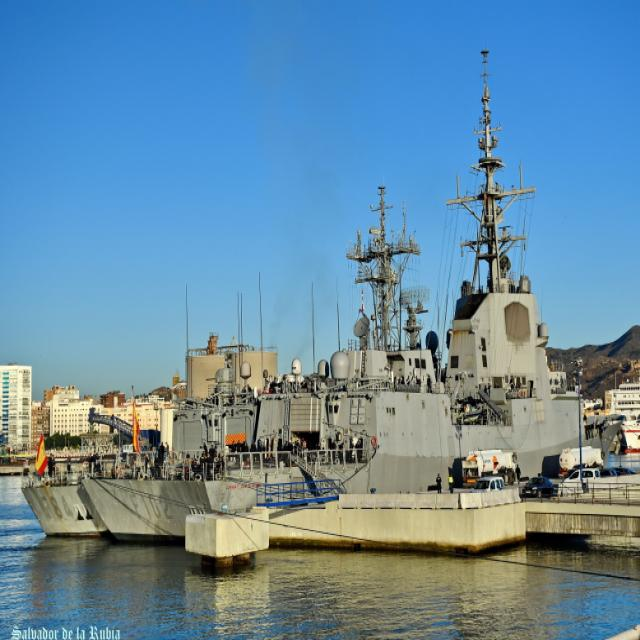Fragata: (78, 41, 622, 549)
